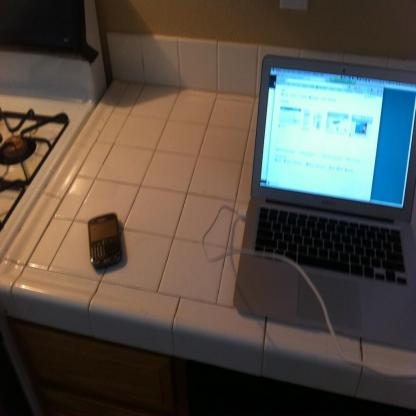board: (236, 64, 415, 309)
